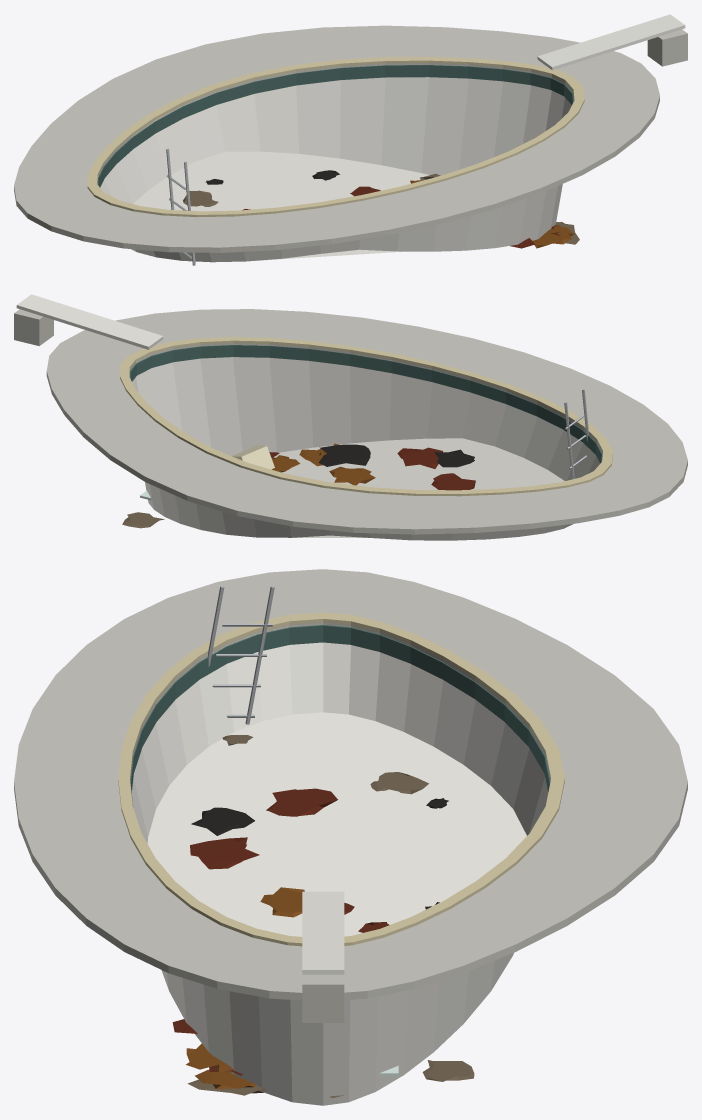
Rendered from suburbs_pool.glb.
3 views of the same model, one above another, from view 1: azimuth 30°, elevation 25°; view 2: azimuth 150°, elevation 25°; view 3: azimuth 270°, elevation 25° (orthographic). The views are drawn at different scales.
Visible parts, largest first — view 1: suburbs_pool; view 2: suburbs_pool; view 3: suburbs_pool.
Boxes of the visible parts, <box> form: suburbs_pool: <box>14,14,687,265</box>; suburbs_pool: <box>14,294,687,540</box>; suburbs_pool: <box>14,569,687,1105</box>.
Size of the model in its own units: 12.74 by 3.21 by 8.02.
